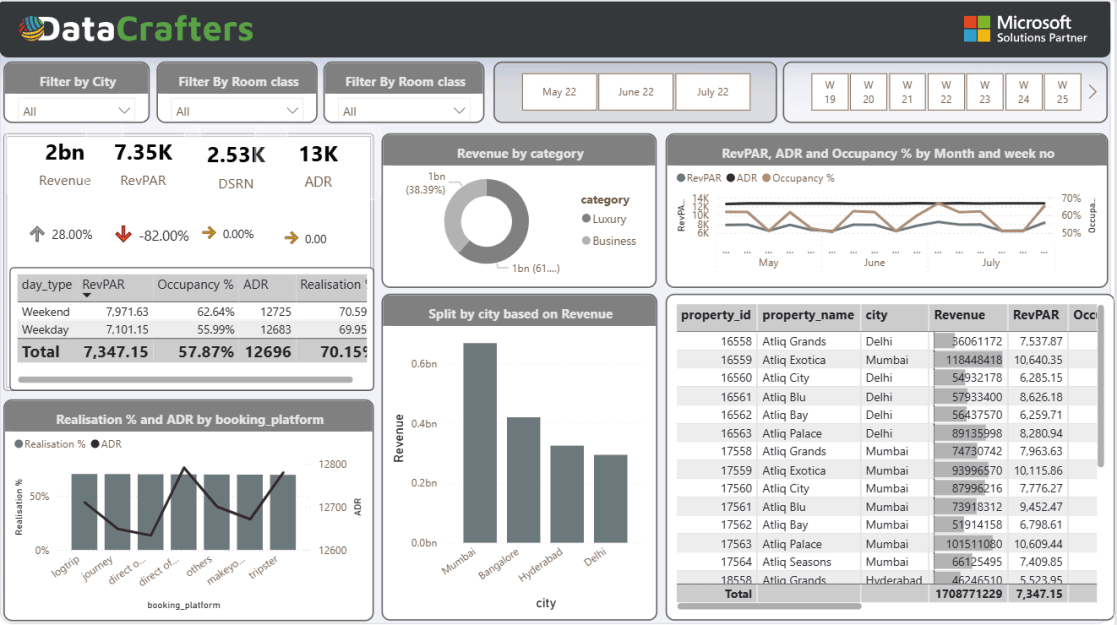

Layout of this report page (visuals, bound fields, positions):
{"tool":"powerbi","page":{"name":"Report","canvas":[1280,720],"ordinal":0},"visuals":[{"type":"shape","box":[9.7,153.2,423.5,294.4],"z":0},{"type":"card","title":"RevPAR","fields":{"Values":["-Key_Measure.Revenue"]},"box":[13.3,141.2,133.9,88.1],"z":1000},{"type":"card","title":"Revenue","fields":{"Values":["-Key_Measure.DSRN"]},"box":[216,144.8,119.4,88.1],"z":2000},{"type":"tableEx","fields":{"Values":["-Key_Measure.Revenue WoW change %"]},"box":[125.5,223.2,118.2,89.3],"z":3000},{"type":"card","title":"Revenue","fields":{"Values":["-Key_Measure.RevPAR"]},"box":[103.8,141.2,131.5,88.1],"z":4000},{"type":"slicer","title":"Filter by City","fields":{"Values":["dim_hotels.city"]},"box":[10,71.4,167.1,70],"z":5000},{"type":"slicer","title":"Filter By Room class","fields":{"Values":["dim_rooms.room_class"]},"box":[184.3,71.4,184.3,70],"z":6000},{"type":"slicer","title":"Month","fields":{"Values":["dim_date.mmm yy"]},"box":[570,71.4,324.3,70],"z":7000},{"type":"slicer","title":"Week","fields":{"Values":["dim_date.week no"]},"box":[900,71.4,371.4,70],"z":8000},{"type":"card","title":"ADR","fields":{"Values":["-Key_Measure.ADR"]},"box":[296.8,144.8,144.8,84.5],"z":9000},{"type":"slicer","title":"Filter By Room class","fields":{"Values":["dim_rooms.room_class"]},"box":[375.7,71.4,184.3,70],"z":10000},{"type":"lineStackedColumnComboChart","fields":{"Category":["fact_bookings.booking_platform"],"Y2":["-Key_Measure.ADR"],"Y":["-Key_Measure.Realisation %"]},"box":[9.7,457.2,423.5,253.4],"z":11000},{"type":"donutChart","fields":{"Y":["-Key_Measure.Revenue"],"Category":["dim_hotels.category"]},"box":[441.4,152.9,314.3,177.1],"z":12000},{"type":"tableEx","fields":{"Values":["dim_hotels.property_id","dim_hotels.property_name","dim_hotels.city","-Key_Measure.Revenue","-Key_Measure.RevPAR","-Key_Measure.Occupancy %","-Key_Measure.DBRN","-Key_Measure.DSRN","-Key_Measure.DURN","-Key_Measure.Realisation %","-Key_Measure.Cancellation %","-Key_Measure.Average Rating"]},"box":[766.1,336.6,513.9,374],"z":13000},{"type":"lineChart","fields":{"Category":["dim_date.mmm yy.Variation.Date Hierarchy.Month","dim_date.week no"],"Y":["-Key_Measure.RevPAR","-Key_Measure.ADR"],"Y2":["-Key_Measure.Occupancy %"]},"box":[765.7,152.9,505.7,177.1],"z":14000},{"type":"tableEx","fields":{"Values":["dim_date.day_type","-Key_Measure.RevPAR","-Key_Measure.Occupancy %","-Key_Measure.ADR","-Key_Measure.Realisation %"]},"box":[16.9,306.4,416.2,141.2],"z":15000},{"type":"tableEx","fields":{"Values":["-Key_Measure.Revpar WoW change %"]},"box":[27.7,223.2,106.2,65.1],"z":16000},{"type":"tableEx","fields":{"Values":["-Key_Measure.DSRN WoW change %"]},"box":[225.6,223.2,101.3,70],"z":17000},{"type":"tableEx","fields":{"Values":["-Key_Measure.ADR WoW change %"]},"box":[319.7,229.2,91.7,70],"z":18000},{"type":"columnChart","title":"Split by city based on Revenue","fields":{"Category":["dim_hotels.city"],"Y":["-Key_Measure.Revenue"]},"box":[441.6,336.6,314.9,374],"z":18001}]}

Visuals, with their boxes in screenshot pixels (x1, y1, x2, y2), scaled from the page's 1280x720 canvas onto the 1117x625 screenshot:
shape: 8 133 378 389
"RevPAR" card: 12 123 128 199
"Revenue" card: 188 126 293 202
tableEx - -Key_Measure.Revenue WoW change %: 110 194 213 271
"Revenue" card: 91 123 205 199
"Filter by City" slicer: 9 62 155 123
"Filter By Room class" slicer: 161 62 322 123
"Month" slicer: 497 62 780 123
"Week" slicer: 785 62 1109 123
"ADR" card: 259 126 385 199
"Filter By Room class" slicer: 328 62 489 123
lineStackedColumnComboChart - fact_bookings.booking_platform x -Key_Measure.ADR: 8 397 378 617
donutChart - -Key_Measure.Revenue x dim_hotels.category: 385 133 659 286
tableEx - dim_hotels.property_id x dim_hotels.property_name: 669 292 1116 617
lineChart - dim_date.mmm yy.Variation.Date Hierarchy.Month x dim_date.week no: 668 133 1109 286
tableEx - dim_date.day_type x -Key_Measure.RevPAR: 15 266 378 389
tableEx - -Key_Measure.Revpar WoW change %: 24 194 117 250
tableEx - -Key_Measure.DSRN WoW change %: 197 194 285 255
tableEx - -Key_Measure.ADR WoW change %: 279 199 359 260
"Split by city based on Revenue" columnChart: 385 292 660 617
